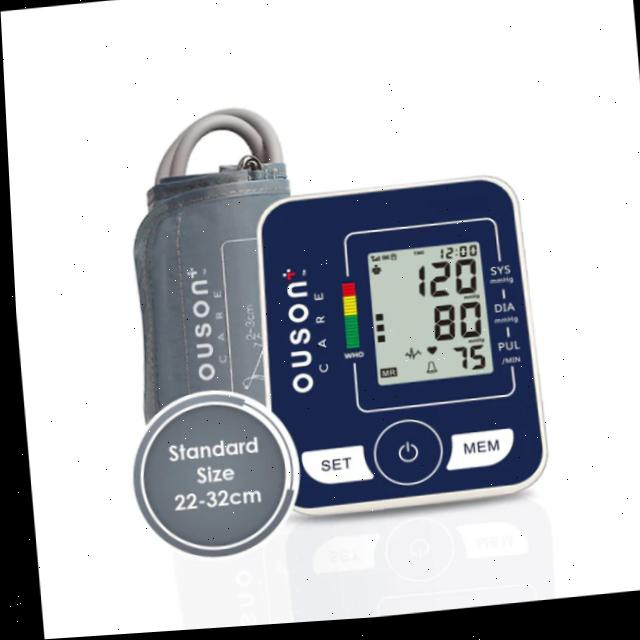dia: (421, 304, 483, 348)
pul: (446, 347, 483, 379)
ssd: (362, 247, 488, 390)
sys: (409, 262, 477, 305)
